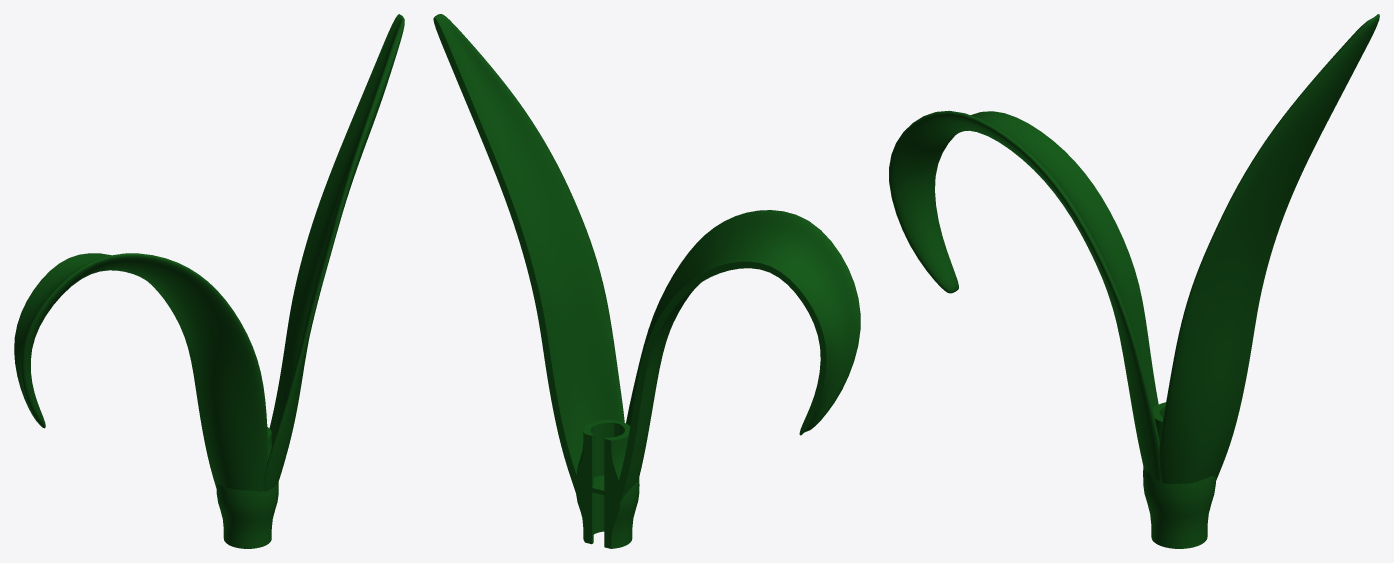
The model's file is c_tulip_leaf_a_l.glb.
3 renders of one model, left to right at view 1: azimuth 30°, elevation 25°; view 2: azimuth 150°, elevation 25°; view 3: azimuth 330°, elevation 25°, orthographic. The views are drawn at different scales.
Visible parts, largest first — view 1: tulip_leaf_a_l1, tulip_leaf_a_l2, connector; view 2: tulip_leaf_a_l2, tulip_leaf_a_l1, connector; view 3: tulip_leaf_a_l2, tulip_leaf_a_l1, connector.
Part boxes in pixels (left/top/right/bottom): tulip_leaf_a_l1: left=14, top=253, right=267, bottom=491; tulip_leaf_a_l2: left=263, top=14, right=404, bottom=491; connector: left=216, top=427, right=278, bottom=548; tulip_leaf_a_l2: left=433, top=14, right=624, bottom=492; tulip_leaf_a_l1: left=619, top=210, right=860, bottom=501; connector: left=576, top=420, right=639, bottom=548; tulip_leaf_a_l2: left=1158, top=14, right=1379, bottom=484; tulip_leaf_a_l1: left=889, top=110, right=1160, bottom=480; connector: left=1143, top=402, right=1215, bottom=548.
Size of the model in its own units: 0.098 by 0.1126 by 0.0167.
